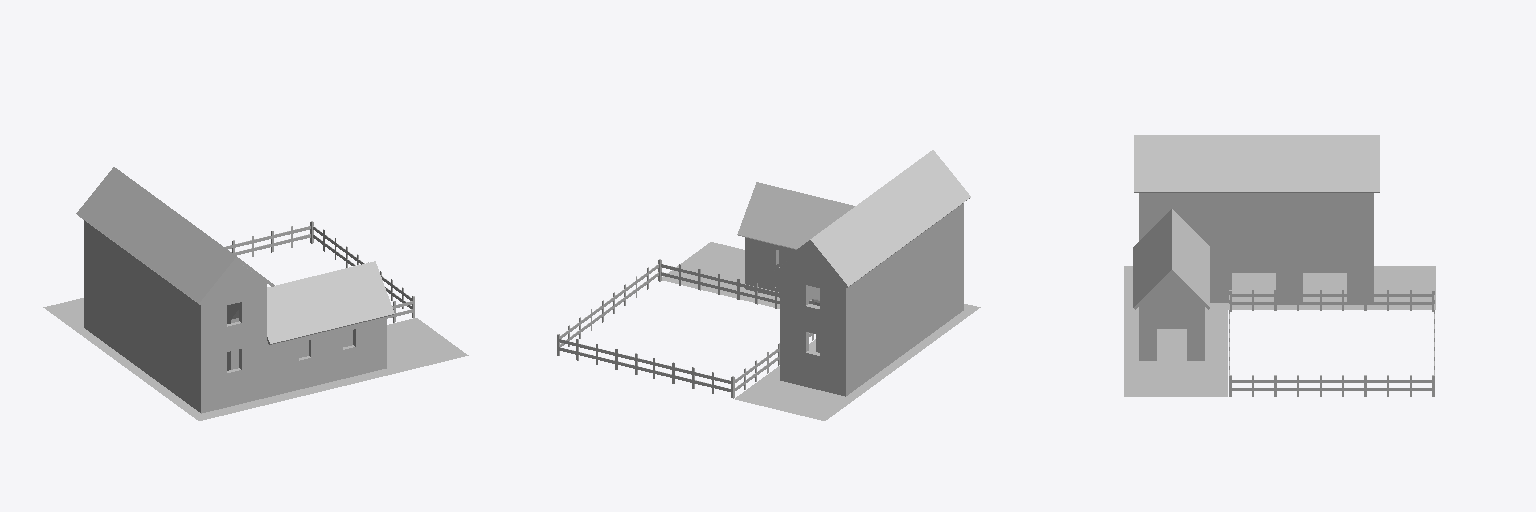
File: WheatFarm.obj
3 views of the same model, side by side, from view 1: azimuth 30°, elevation 25°; view 2: azimuth 150°, elevation 25°; view 3: azimuth 270°, elevation 25° (orthographic).
Visible parts, largest first — view 1: Farm_Plane.007; view 2: Farm_Plane.007; view 3: Farm_Plane.007.
Boxes of the visible parts, box(x1,y1,x2,y2) form: Farm_Plane.007: box(43, 167, 468, 420); Farm_Plane.007: box(557, 150, 980, 420); Farm_Plane.007: box(1124, 135, 1435, 396).
Size of the model in its own units: 6 by 3.21 by 6.